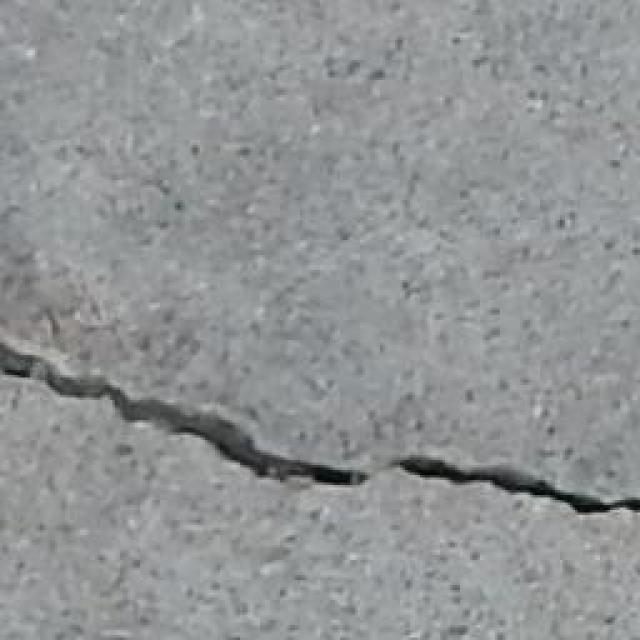concrete-crack: (0, 333, 640, 527)
